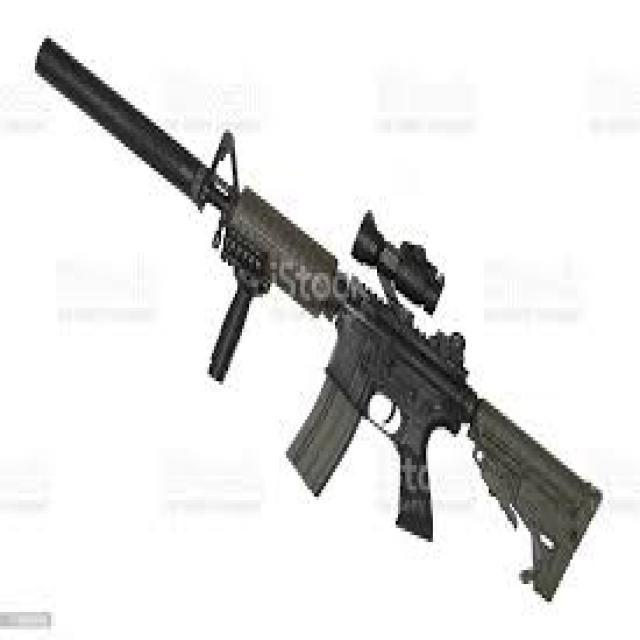m16: (22, 16, 620, 610)
